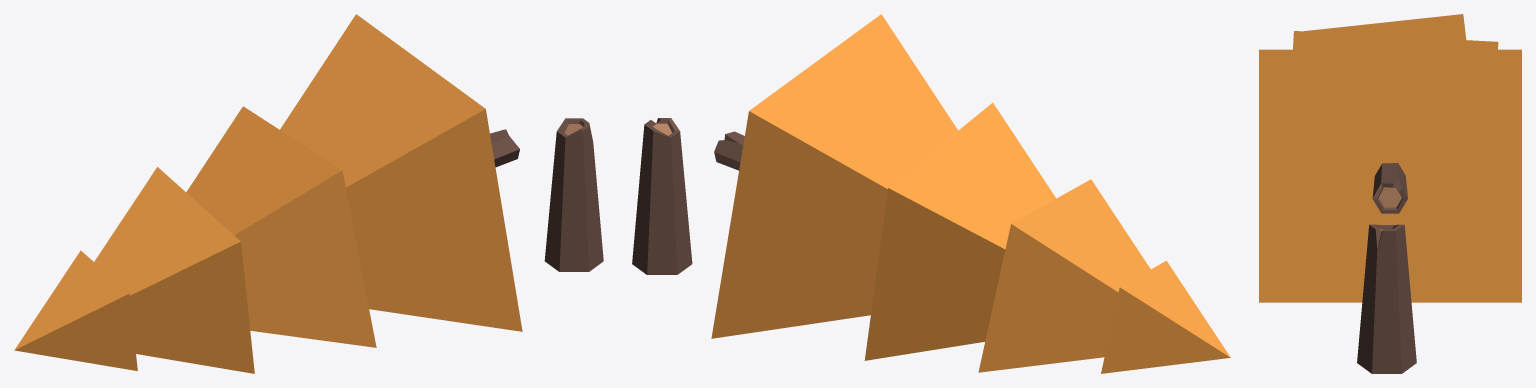
The model's file is AutumnFallenTree_01.fbx.
3 views of the same model, side by side, from view 1: azimuth 30°, elevation 25°; view 2: azimuth 150°, elevation 25°; view 3: azimuth 270°, elevation 25° (orthographic). The views are drawn at different scales.
Parts seen in each view (by area): view 1: AutumnFallenTree_01; view 2: AutumnFallenTree_01; view 3: AutumnFallenTree_01.
Boxes of the visible parts, x1,y1,x2,y2 form: AutumnFallenTree_01: (14, 14, 603, 373); AutumnFallenTree_01: (632, 14, 1230, 373); AutumnFallenTree_01: (1259, 14, 1521, 373).
Bounding box in the file's own units: 889 × 347 × 344.
